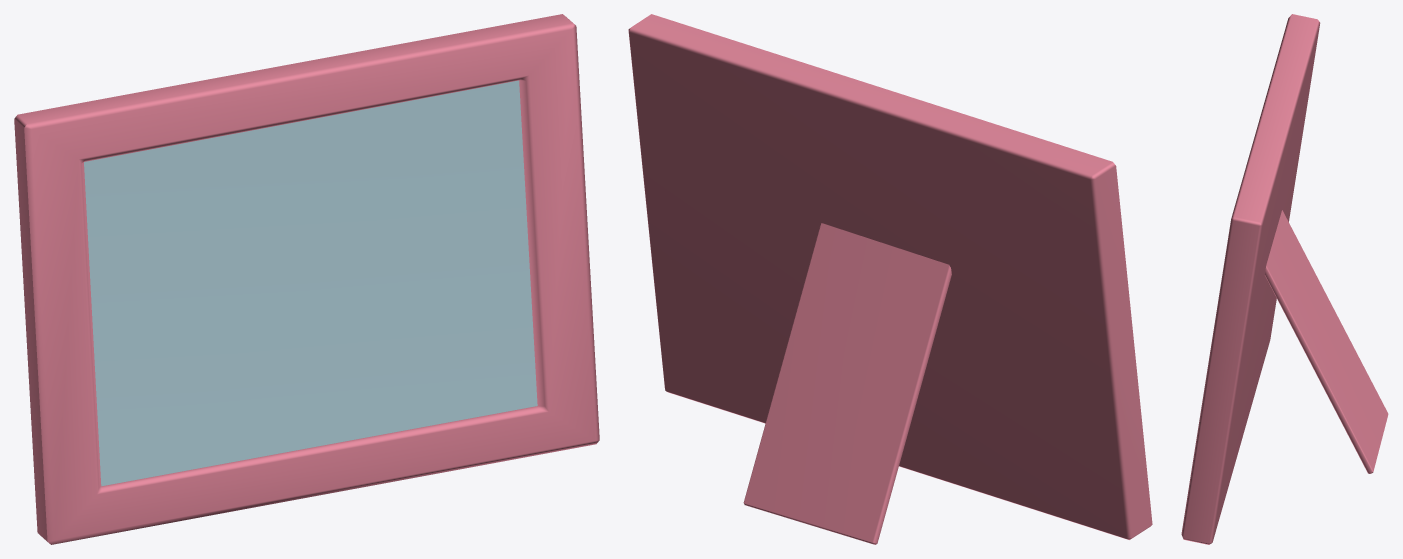
File: Photoframe_4.glb
3 renders of one model, left to right at view 1: azimuth 30°, elevation 25°; view 2: azimuth 150°, elevation 25°; view 3: azimuth 270°, elevation 25°, orthographic. The views are drawn at different scales.
Parts seen in each view (by area): view 1: Photoframe_4; view 2: Photoframe_4; view 3: Photoframe_4.
Boxes of the visible parts, left/top/right/bottom form: Photoframe_4: left=14, top=14, right=599, bottom=544; Photoframe_4: left=628, top=14, right=1152, bottom=544; Photoframe_4: left=1181, top=14, right=1388, bottom=544.
Size of the model in its own units: 0.1703 by 0.1237 by 0.0703.
1 material, 1 textured.
